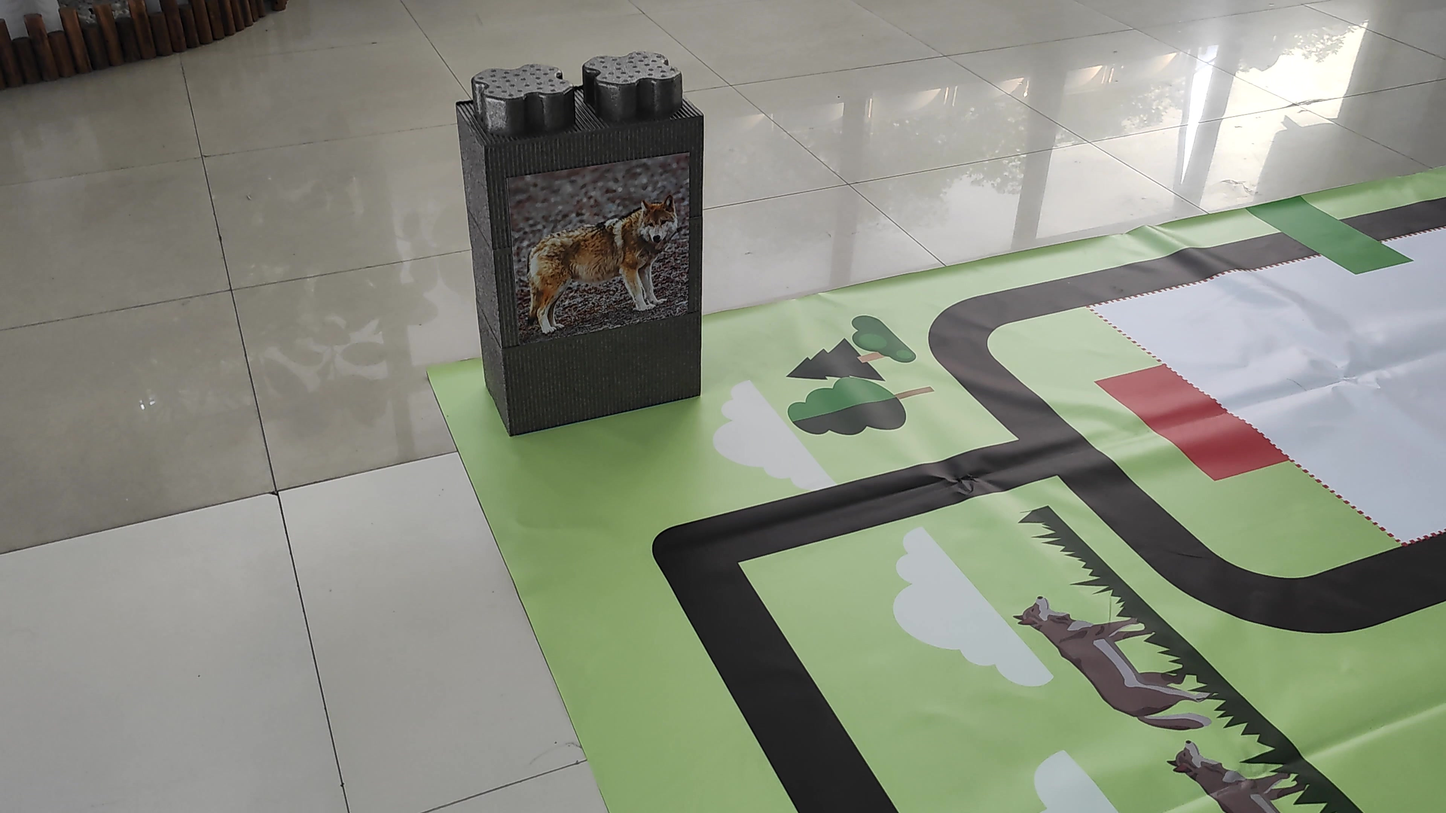wolf: (516, 182, 692, 354)
